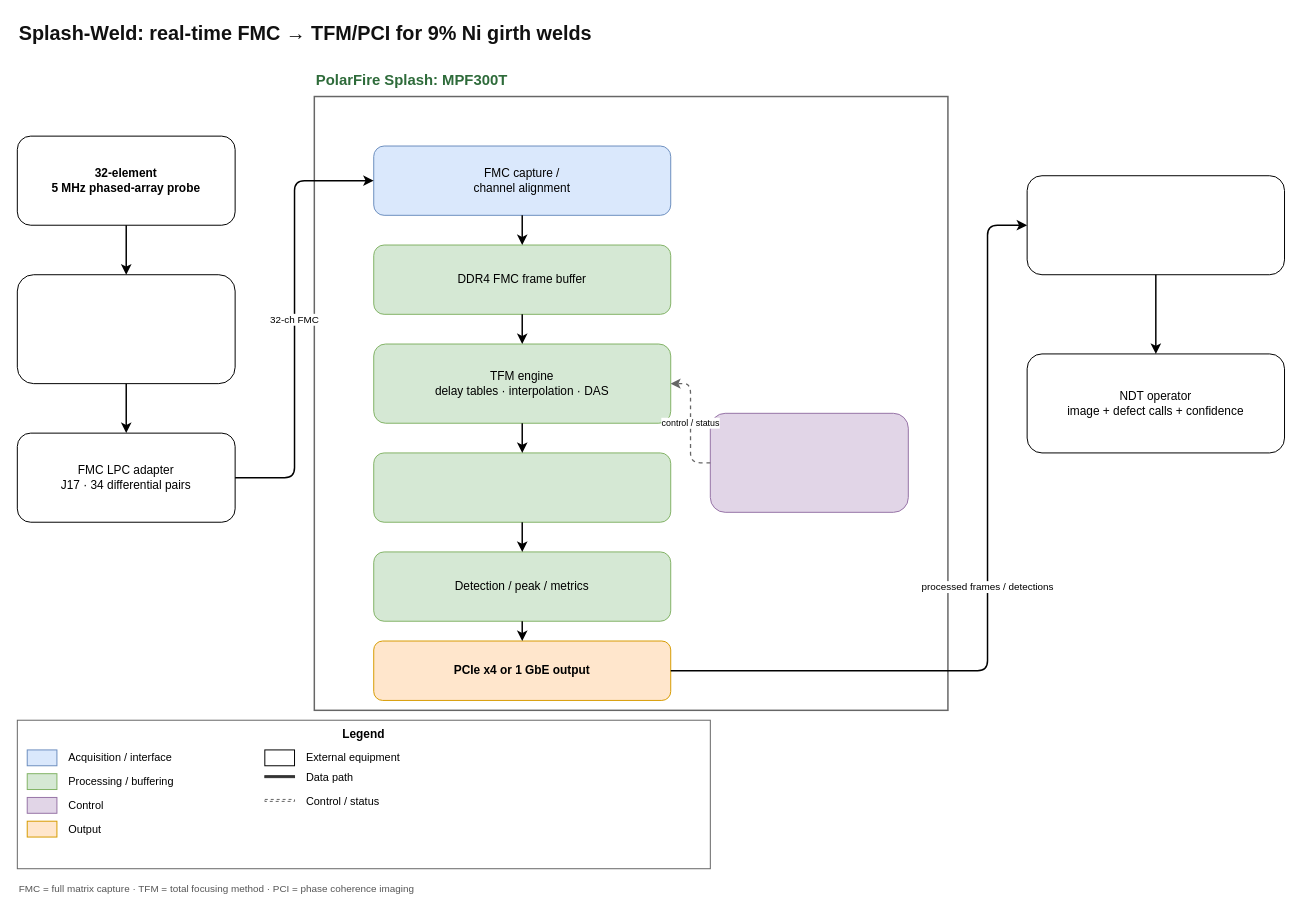
The diagram is 1302 pixels wide and 915 high, and some of its shapes have lost their labels. The shapes that lost their labels are listed below. From the top down, each one's centre as x and y in pixels, then its label:
pixel 1155 225: Host PC display · storage GPU/CPU TFM baseline
pixel 125 329: Pulser/receiver + 32-ch AFE/ADC 50 MSps, 12-bit
pixel 808 462: Soft RISC-V control & status
pixel 522 487: Phase-coherence (PCI) weighting
